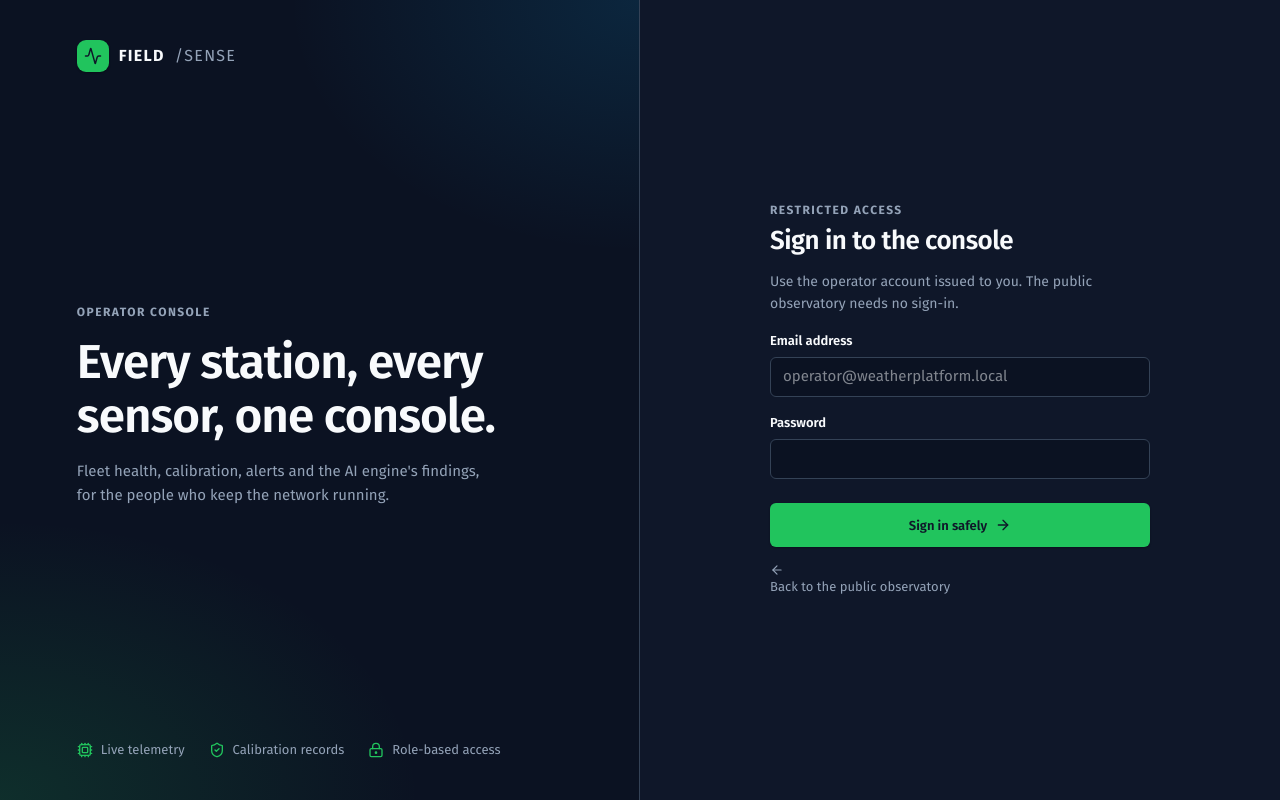
Scenario: Smart Environment Monitor security boundaries › authentication flow › reports a failed login without leaving the form
This screenshot has width=1280, height=800.
// By label, so the test fails if a label stops being tied to its field.
In the field labelled "Email address": (960, 377) left=770, top=357, right=1150, bottom=397, type "bad@example.com"
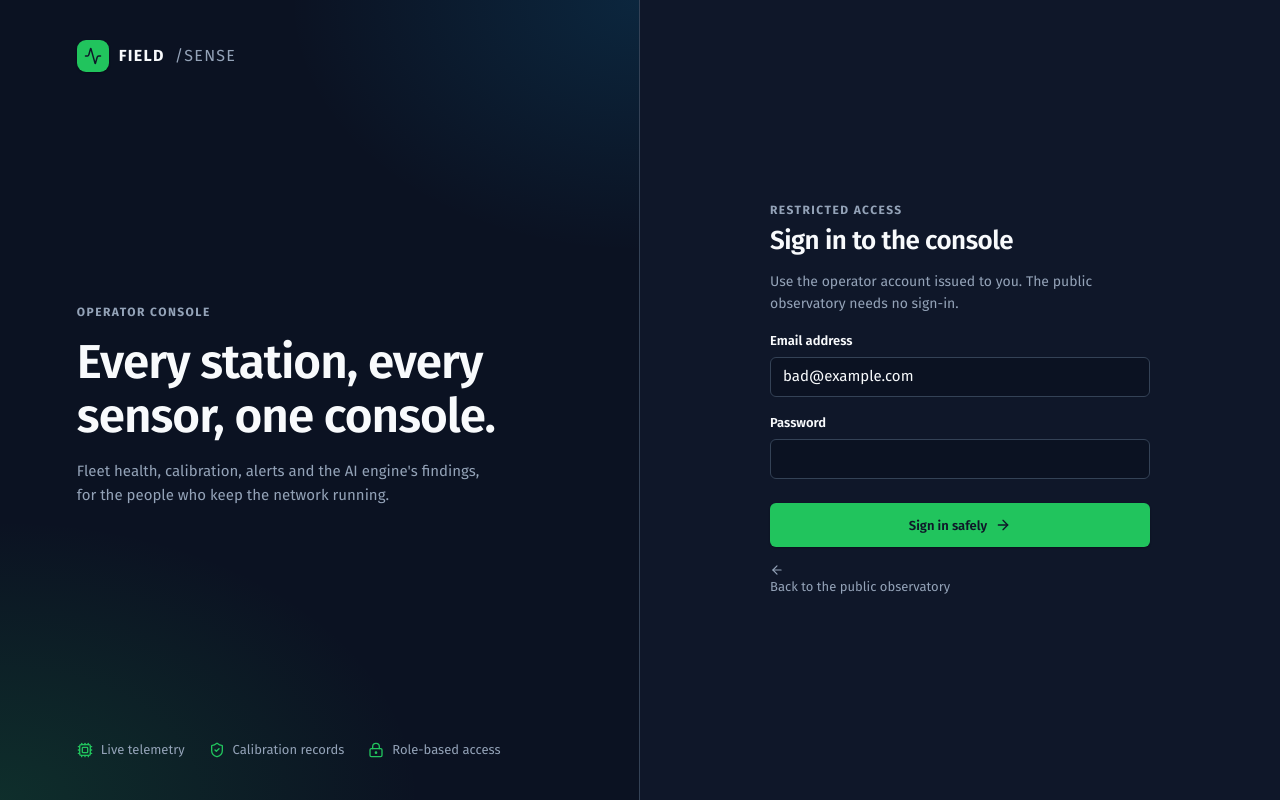
In the password field labelled "Password": (960, 459) left=770, top=439, right=1150, bottom=479, type "wrong"
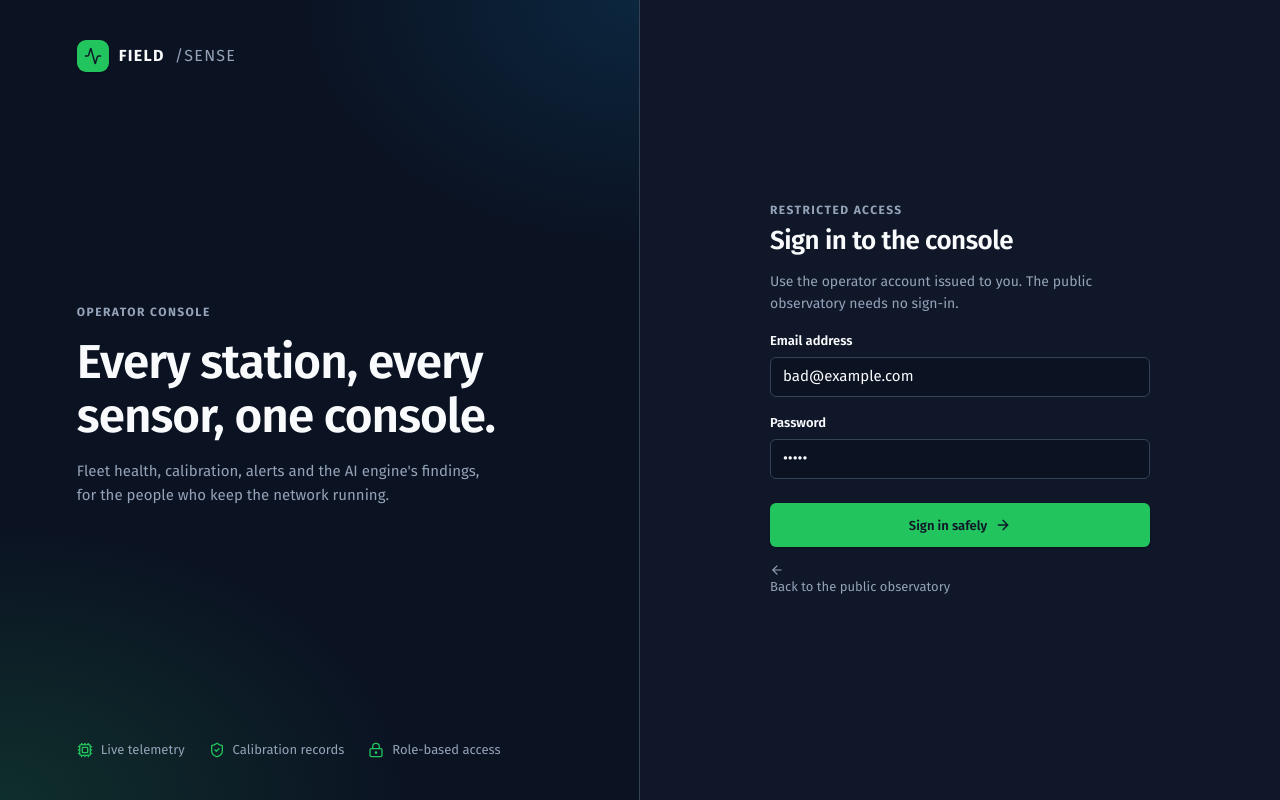
Click the button "Sign in safely": (960, 525) left=770, top=503, right=1150, bottom=547
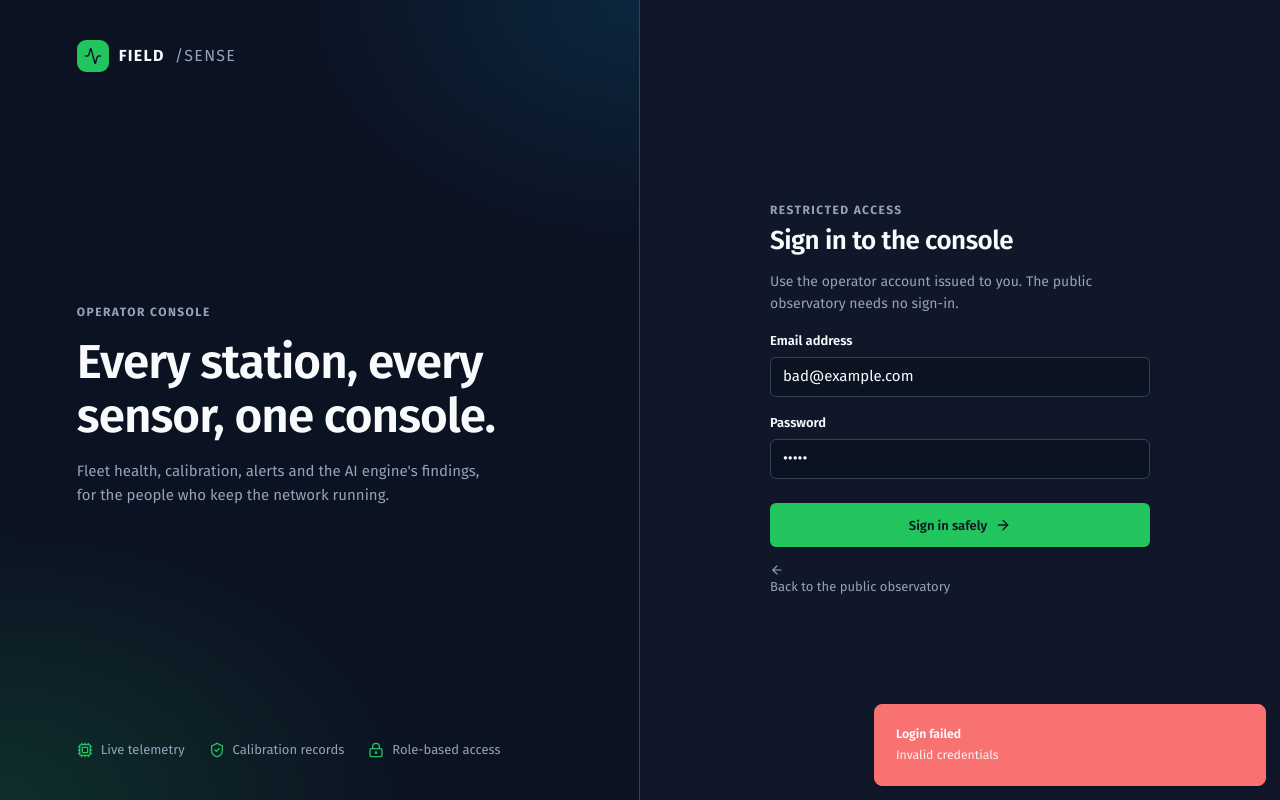
Check: the text "Invalid credentials" is shown, box left=896, top=746, right=998, bottom=764
